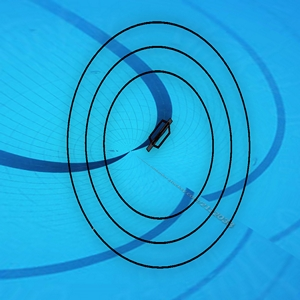circle: (65, 21, 250, 271)
submarine: (146, 115, 172, 151)
